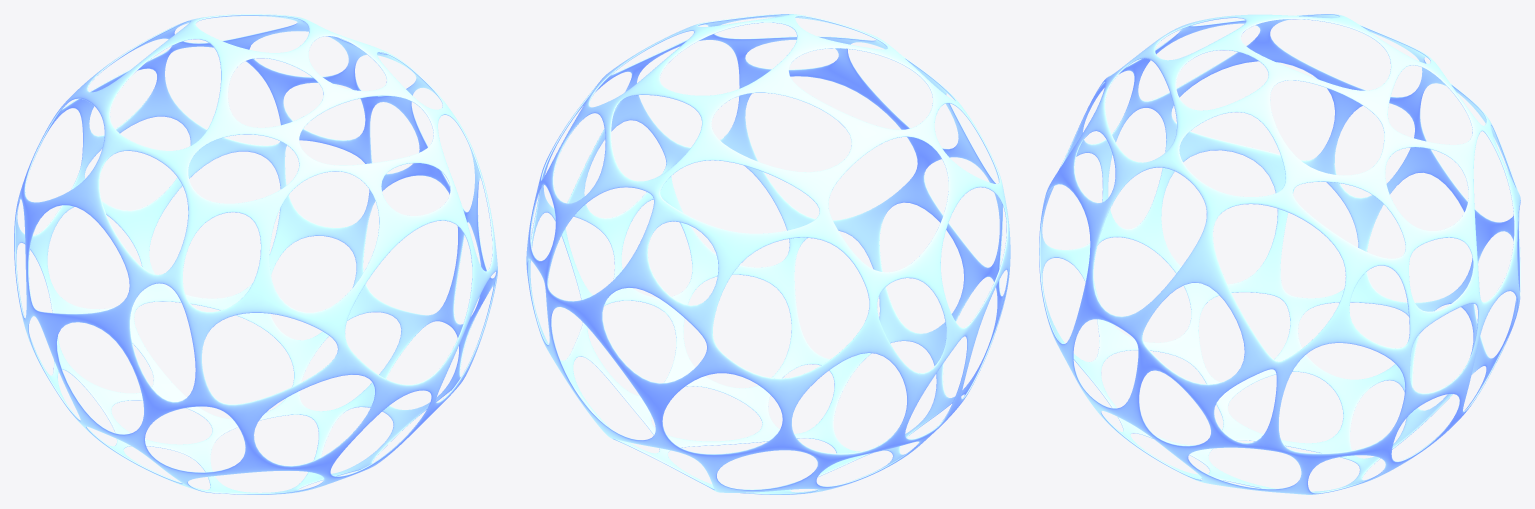
Rendered from cage_small_blue1.glb.
3 views of the same model, side by side, from view 1: azimuth 30°, elevation 25°; view 2: azimuth 150°, elevation 25°; view 3: azimuth 270°, elevation 25° (orthographic).
Visible parts, largest first — view 1: Cube.015; view 2: Cube.015; view 3: Cube.015.
Part boxes in pixels (bbox=[...]): Cube.015: bbox=[14, 14, 497, 494]; Cube.015: bbox=[526, 14, 1010, 494]; Cube.015: bbox=[1039, 14, 1520, 494].
Size of the model in its own units: 1.69 by 1.65 by 1.66.
